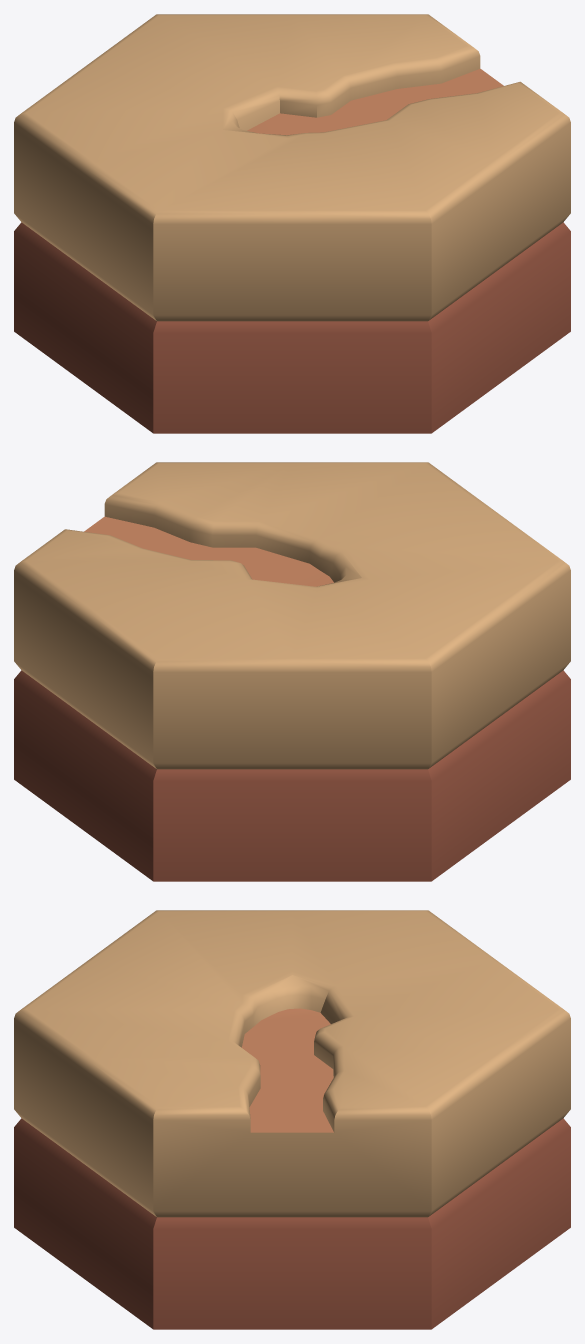
The model's file is hex_sand_roadA_detail.glb.
3 renders of one model, top to bottom at view 1: azimuth 30°, elevation 25°; view 2: azimuth 150°, elevation 25°; view 3: azimuth 270°, elevation 25°, orthographic.
Visible parts, largest first — view 1: hex_sand_roadA_detail; view 2: hex_sand_roadA_detail; view 3: hex_sand_roadA_detail.
Part boxes in pixels (box(x1,y1,x2,y2)): hex_sand_roadA_detail: box(14, 14, 570, 433); hex_sand_roadA_detail: box(14, 462, 570, 881); hex_sand_roadA_detail: box(14, 910, 570, 1329).
Bounding box in the file's own units: 2 × 1 × 2.31.
